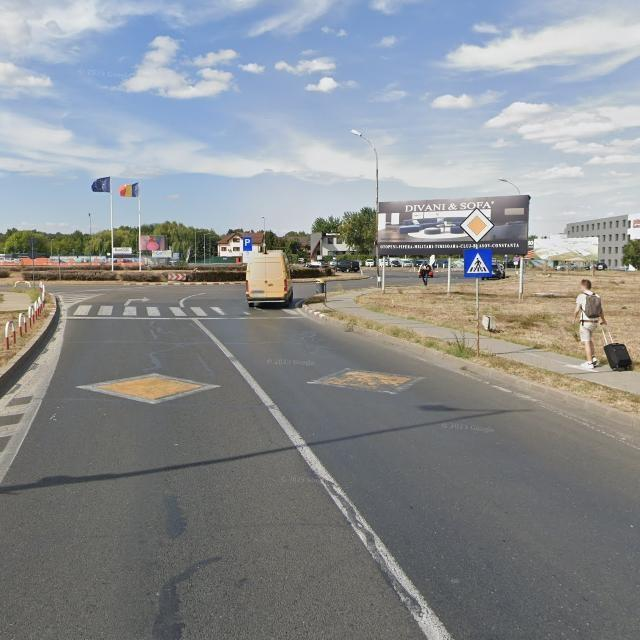info_crosswalk: (464, 248, 493, 278)
